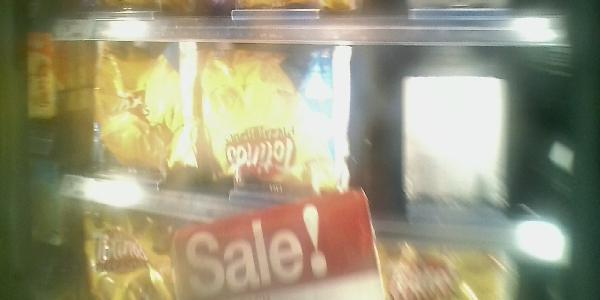icecream: (198, 46, 344, 200), (84, 41, 196, 184)
